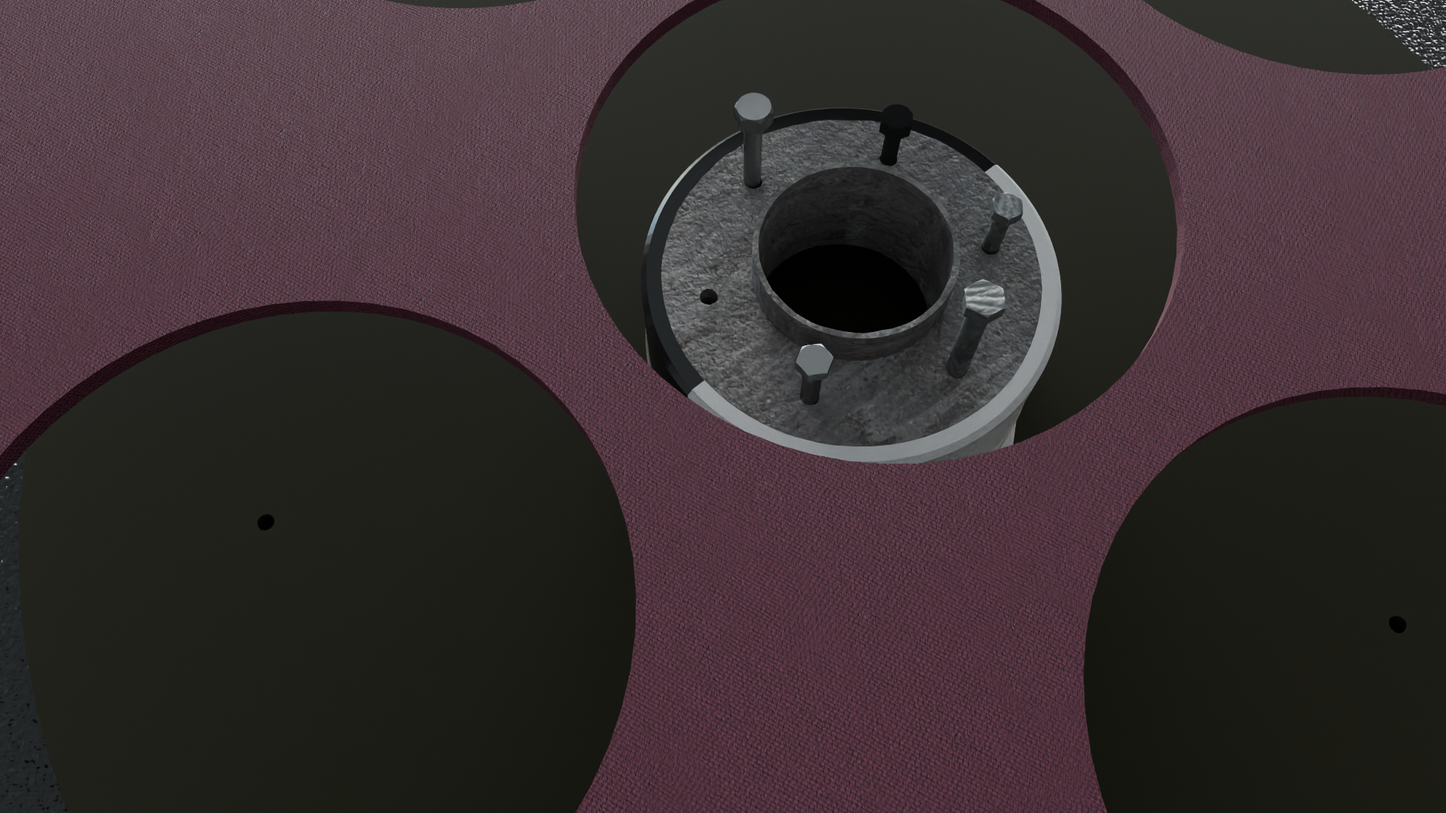bolt: (964, 279, 1005, 318), (796, 344, 834, 376), (734, 93, 773, 124), (881, 104, 914, 132), (993, 192, 1023, 220)
